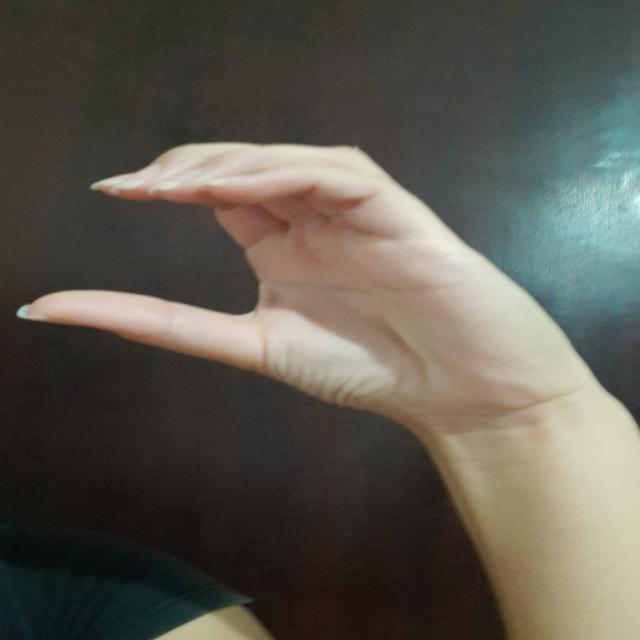C: (15, 122, 588, 424)
